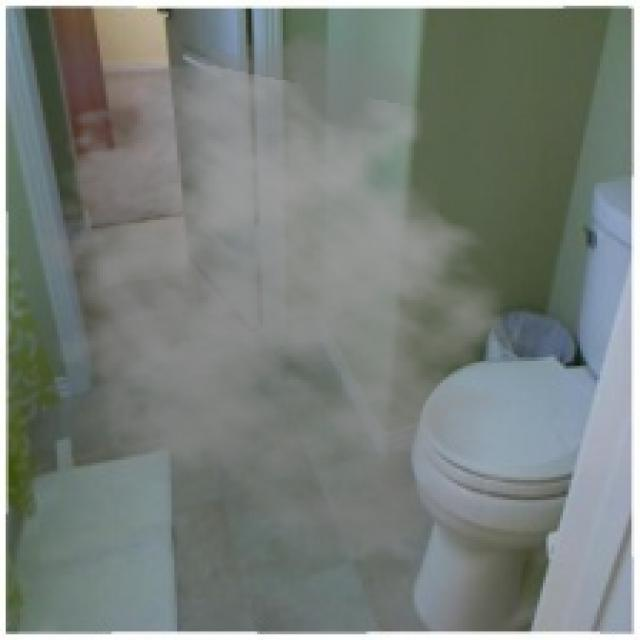smoke: (12, 23, 557, 568)
